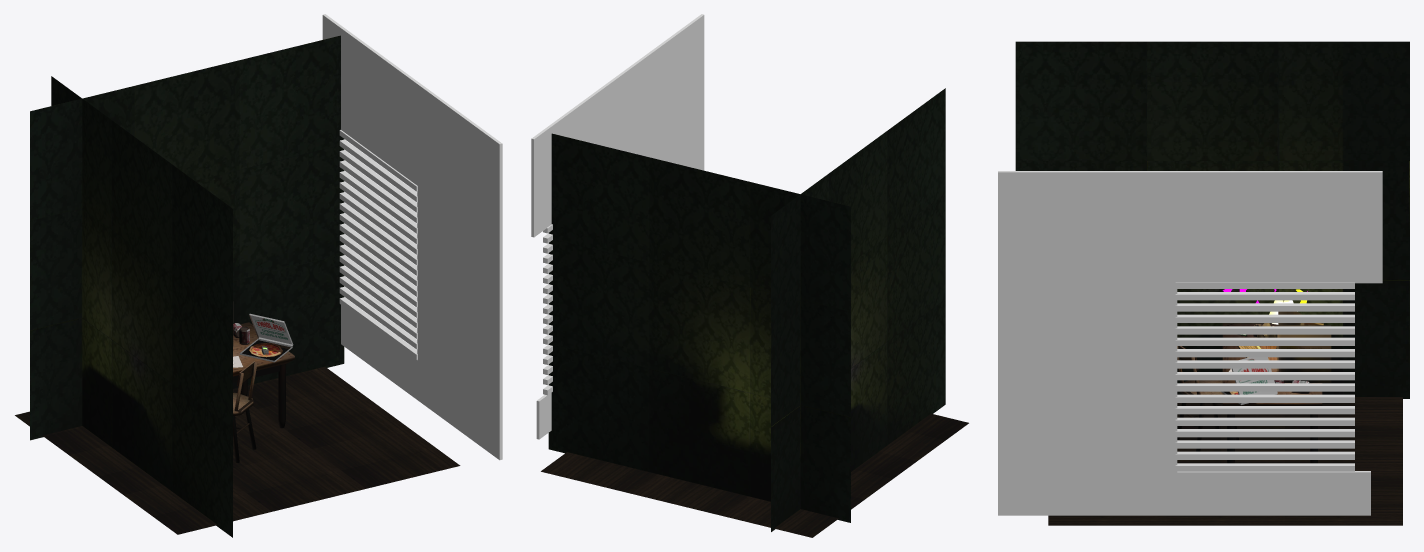
File: main_scene_old_updated_2.glb
The picture shows the model from 3 angles, left to right: view 1: azimuth 30°, elevation 25°; view 2: azimuth 150°, elevation 25°; view 3: azimuth 270°, elevation 25°; orthographic projection. The views are drawn at different scales.
Parts seen in each view (by area): view 1: Plane.001, Plane.003, Plane.005, Cube.005, SM_Table, SM_Wooden_Chair, Cube.004; view 2: Plane.001, Plane.003, Plane.005, Cube.005; view 3: Plane.003, Plane.001, Cube.005, Plane.005, SM_Table, RetroComputer, SM_Wooden_Chair, Cube.004.
Boxes of the visible parts, bbox=[...] form: Plane.001: bbox=[30, 35, 344, 537]; Plane.003: bbox=[322, 14, 502, 460]; Plane.005: bbox=[15, 366, 460, 534]; Cube.005: bbox=[339, 130, 417, 359]; SM_Table: bbox=[233, 322, 294, 428]; SM_Wooden_Chair: bbox=[233, 361, 257, 462]; Cube.004: bbox=[249, 313, 293, 345]; Plane.001: bbox=[548, 88, 945, 531]; Plane.003: bbox=[531, 14, 704, 439]; Plane.005: bbox=[541, 413, 968, 537]; Cube.005: bbox=[543, 224, 552, 395]; Plane.003: bbox=[998, 171, 1382, 515]; Plane.001: bbox=[1015, 41, 1409, 398]; Cube.005: bbox=[1175, 282, 1354, 471]; Plane.005: bbox=[1048, 397, 1402, 525]; SM_Table: bbox=[1222, 323, 1322, 463]; RetroComputer: bbox=[1277, 325, 1331, 382]; SM_Wooden_Chair: bbox=[1177, 346, 1238, 451]; Cube.004: bbox=[1231, 357, 1277, 403].
Bounding box in the file's own units: 4.4 × 4.5 × 4.6.
20 materials, 13 textured.
